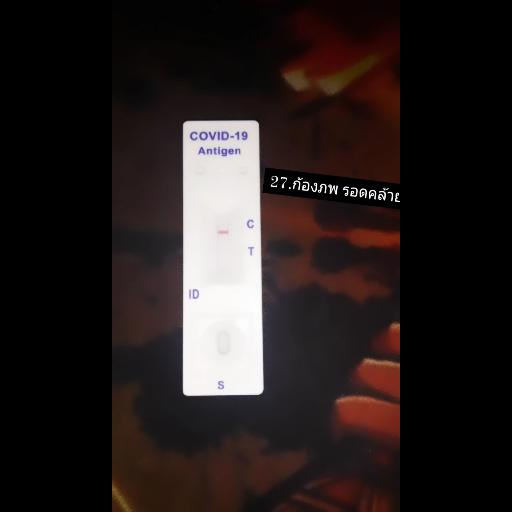Neg: (183, 120, 263, 394)
